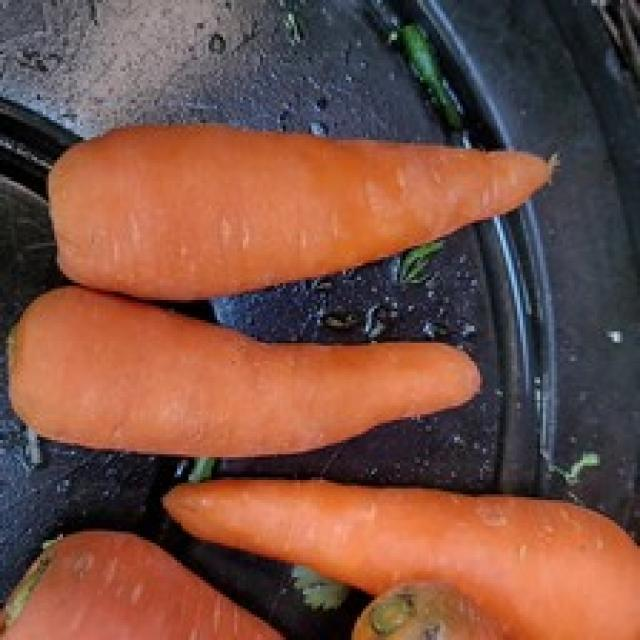carrot: (47, 124, 558, 293), (10, 290, 484, 457), (167, 481, 640, 640)
